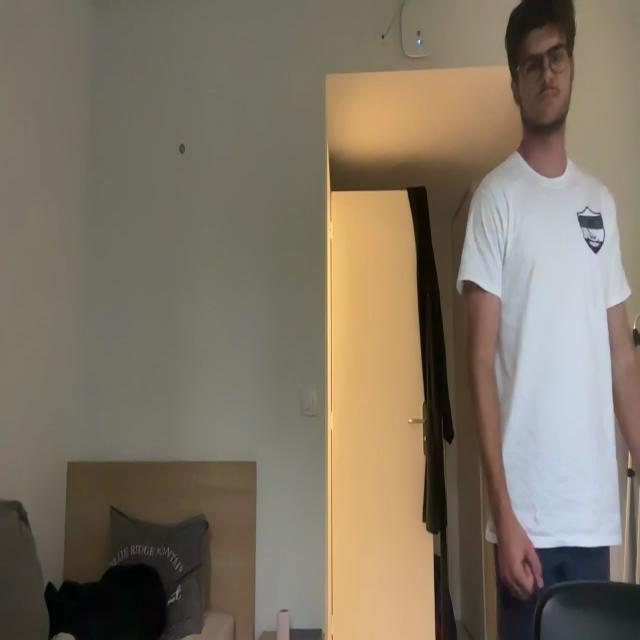elbow: (609, 329, 635, 388), (463, 344, 497, 388)
hand: (490, 506, 546, 600)
shoulder: (469, 184, 507, 257), (602, 188, 618, 254)
